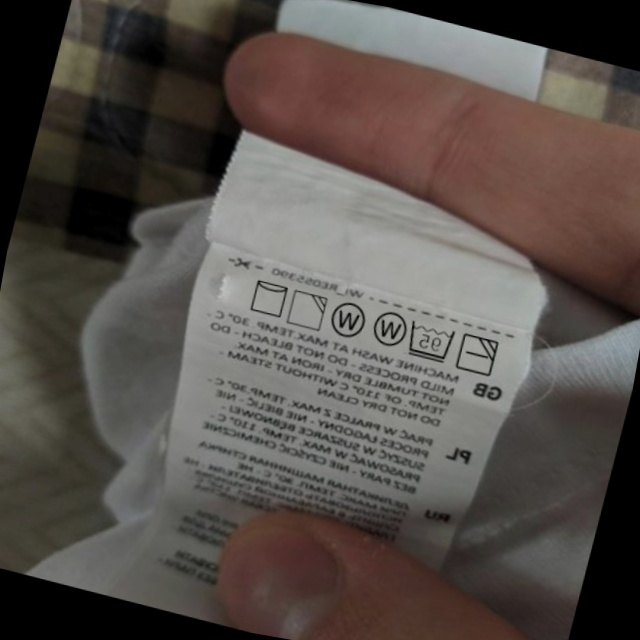95C: (402, 316, 459, 366)
dry_flat_in_shade: (453, 329, 503, 380)
line_dry: (244, 274, 293, 321)
shade_dry: (283, 286, 331, 334)
wet_clean: (366, 303, 411, 352), (325, 297, 371, 344)
